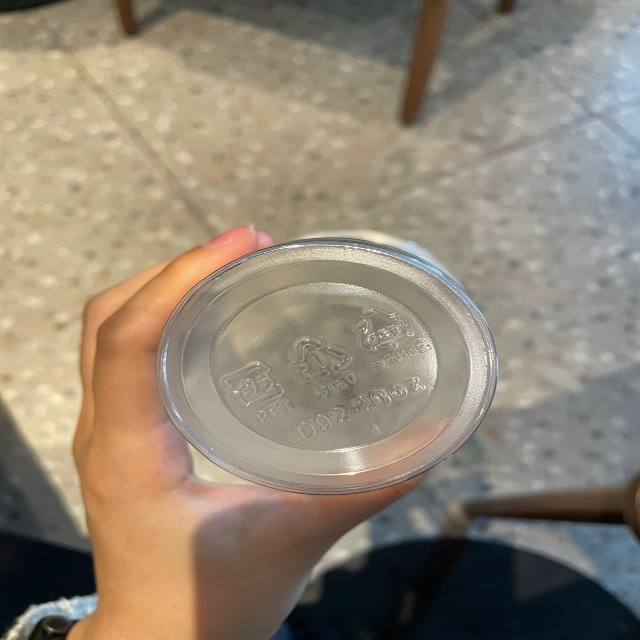pet: (213, 358, 300, 427), (355, 303, 431, 374), (292, 332, 361, 396)
